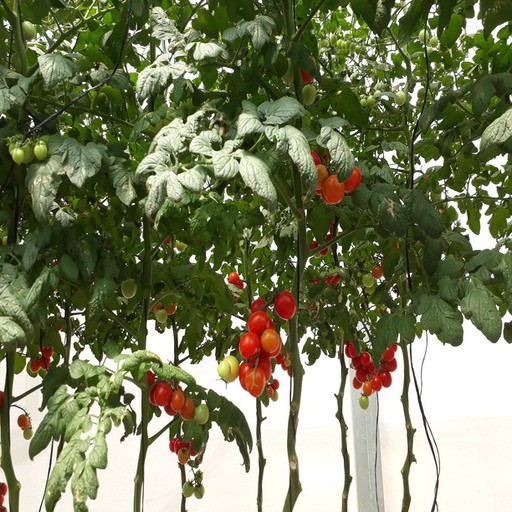green tomato bunch: (7, 133, 51, 164), (317, 34, 367, 56), (352, 90, 407, 108)
mixed tomato bunch: (318, 254, 385, 297), (284, 55, 317, 106), (146, 292, 179, 325)
red tomato bunch: (240, 291, 292, 397), (147, 370, 214, 427), (305, 147, 361, 201), (346, 337, 397, 396), (26, 320, 64, 371), (308, 218, 338, 258), (170, 435, 202, 464)
